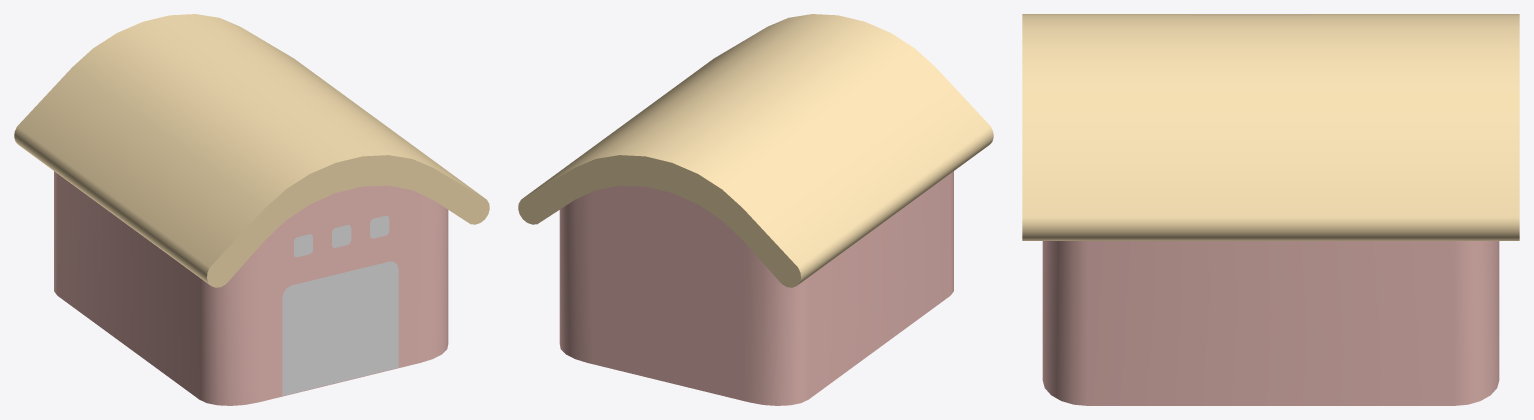
Rendered from Ambar A.fbx.
The picture shows the model from 3 angles, left to right: view 1: azimuth 30°, elevation 25°; view 2: azimuth 150°, elevation 25°; view 3: azimuth 270°, elevation 25°; orthographic projection. The views are drawn at different scales.
Visible parts, largest first — view 1: Ambar A; view 2: Ambar A; view 3: Ambar A.
Boxes of the visible parts, <box> form: Ambar A: <box>14,14,489,405</box>; Ambar A: <box>518,14,993,405</box>; Ambar A: <box>1022,14,1519,405</box>.
Bounding box in the file's own units: 759 × 586 × 896.
